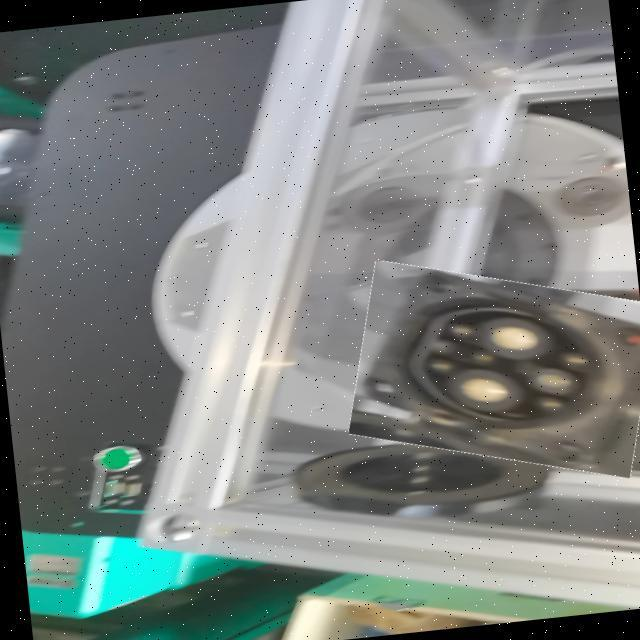GB-T: (375, 256, 621, 472)
